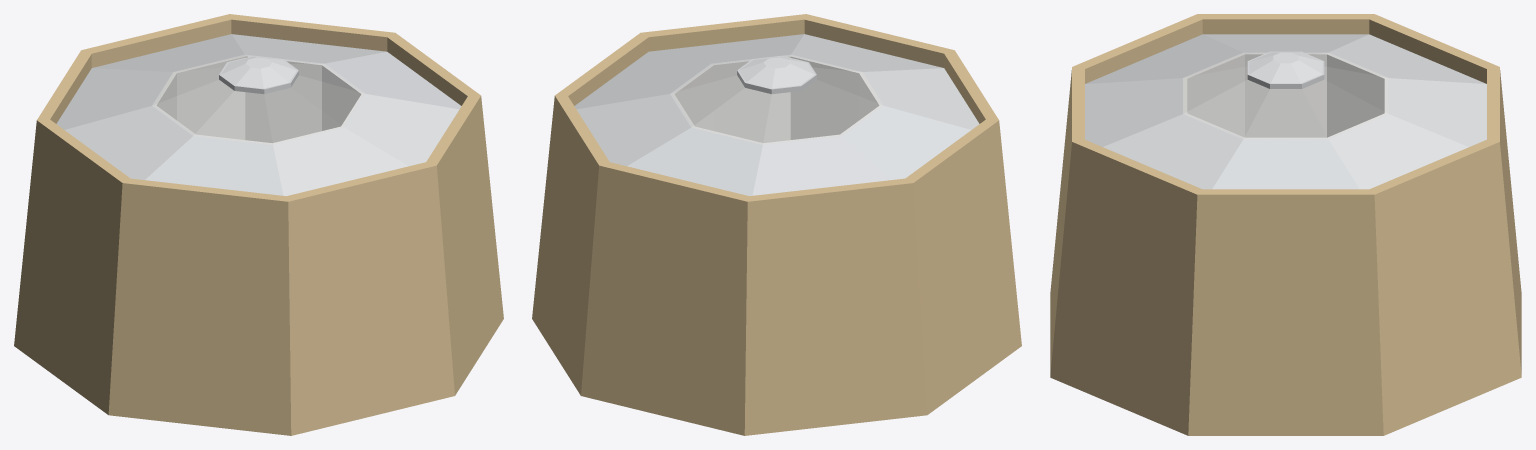
The model's file is Modulo museo.glb.
The picture shows the model from 3 angles, left to right: view 1: azimuth 30°, elevation 25°; view 2: azimuth 150°, elevation 25°; view 3: azimuth 270°, elevation 25°; orthographic projection. The views are drawn at different scales.
Visible parts, largest first — view 1: Muros_exteriores, Cubierta_facetada, Tragaluz_piramide, Pozo_de_luz, Tragaluz_linterna, Tragaluz_cupula; view 2: Muros_exteriores, Cubierta_facetada, Tragaluz_piramide, Pozo_de_luz, Tragaluz_linterna, Tragaluz_cupula; view 3: Muros_exteriores, Cubierta_facetada, Tragaluz_piramide, Pozo_de_luz, Tragaluz_linterna, Tragaluz_cupula.
Part boxes in pixels (box(x1,y1,x2,y2)): Muros_exteriores: box(14, 14, 503, 435); Cubierta_facetada: box(56, 34, 461, 195); Tragaluz_piramide: box(152, 55, 365, 144); Pozo_de_luz: box(153, 55, 365, 144); Tragaluz_linterna: box(219, 55, 298, 94); Tragaluz_cupula: box(221, 57, 296, 88); Muros_exteriores: box(532, 14, 1021, 435); Cubierta_facetada: box(574, 34, 979, 195); Tragaluz_piramide: box(670, 55, 883, 144); Pozo_de_luz: box(672, 55, 882, 144); Tragaluz_linterna: box(737, 55, 816, 94); Tragaluz_cupula: box(739, 57, 814, 88); Muros_exteriores: box(1050, 14, 1521, 435); Cubierta_facetada: box(1085, 34, 1486, 189); Tragaluz_piramide: box(1183, 53, 1388, 139); Pozo_de_luz: box(1183, 53, 1388, 139); Tragaluz_linterna: box(1247, 51, 1324, 88); Tragaluz_cupula: box(1249, 52, 1322, 82).
Size of what is drawn, in the model's own units: 12.9 by 8.45 by 12.9.
